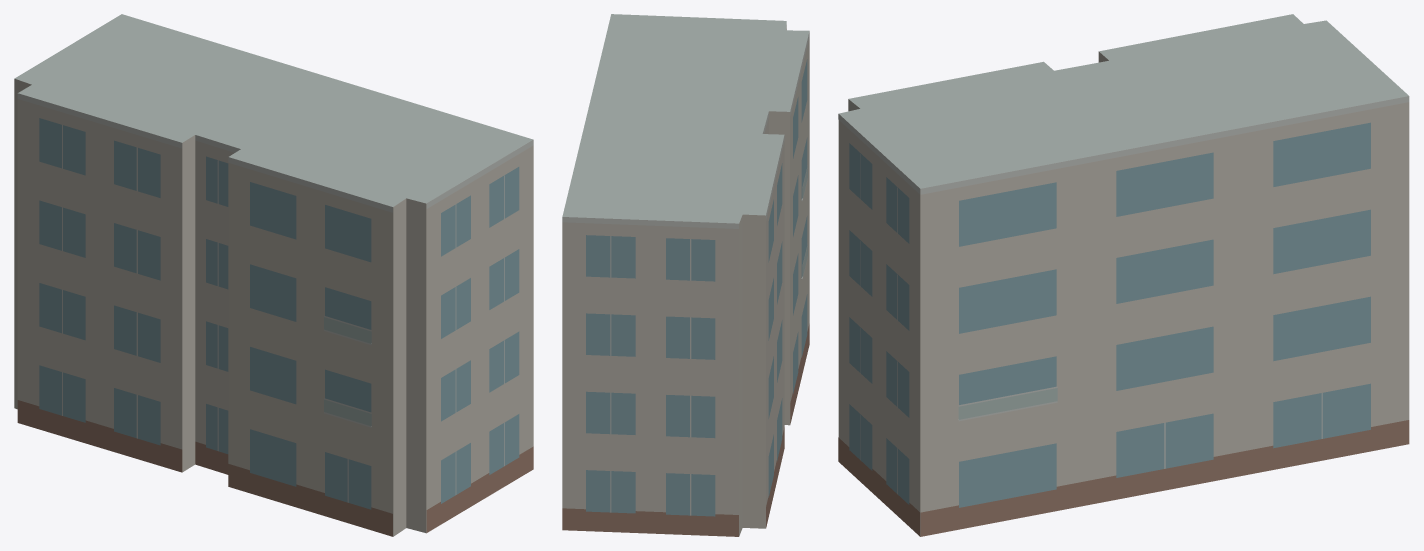
Rendered from survey-upis-32629490.glb.
The picture shows the model from 3 angles, left to right: view 1: azimuth 30°, elevation 25°; view 2: azimuth 150°, elevation 25°; view 3: azimuth 270°, elevation 25°; orthographic projection. The views are drawn at different scales.
Visible parts, largest first — view 1: survey-upis-32629490.tmp; view 2: survey-upis-32629490.tmp; view 3: survey-upis-32629490.tmp.
Part boxes in pixels (left/top/right/bottom): survey-upis-32629490.tmp: left=14, top=14, right=533, bottom=536; survey-upis-32629490.tmp: left=562, top=14, right=809, bottom=536; survey-upis-32629490.tmp: left=838, top=14, right=1409, bottom=536.
Size of the model in its own units: 15.2 by 14.1 by 20.97.
